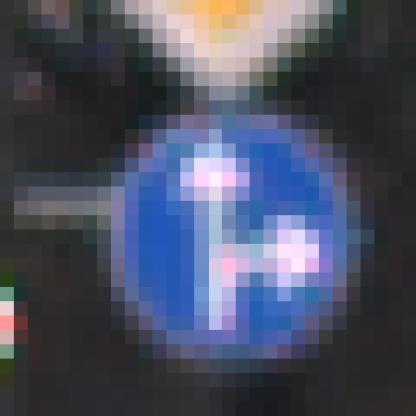Straight or Right: (84, 87, 348, 345)
